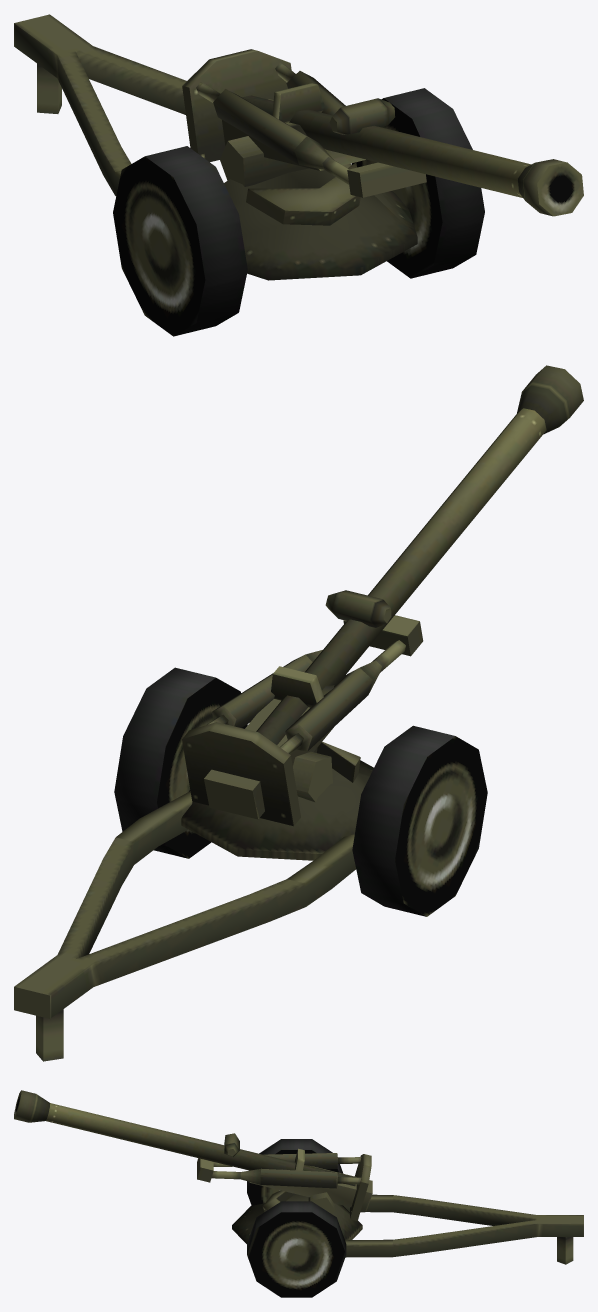
Rendered from Howitzer_Light_Towed.DAE.
3 views of the same model, one above another, from view 1: azimuth 30°, elevation 25°; view 2: azimuth 150°, elevation 25°; view 3: azimuth 270°, elevation 25° (orthographic). The views are drawn at different scales.
Parts seen in each view (by area): view 1: _1178_Howitzer_LightTowed_M119; view 2: _1178_Howitzer_LightTowed_M119; view 3: _1178_Howitzer_LightTowed_M119.
Boxes of the visible parts, x1,y1,x2,y2 form: _1178_Howitzer_LightTowed_M119: [14, 14, 583, 336]; _1178_Howitzer_LightTowed_M119: [14, 365, 583, 1061]; _1178_Howitzer_LightTowed_M119: [14, 1090, 583, 1297].
Size of the model in its own units: 69.56 by 74.9 by 229.
1 material, 1 textured.
